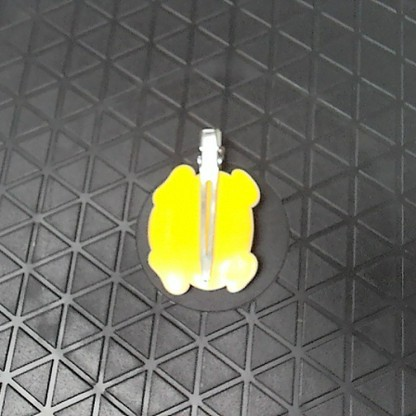dogclip: (138, 124, 262, 296)
